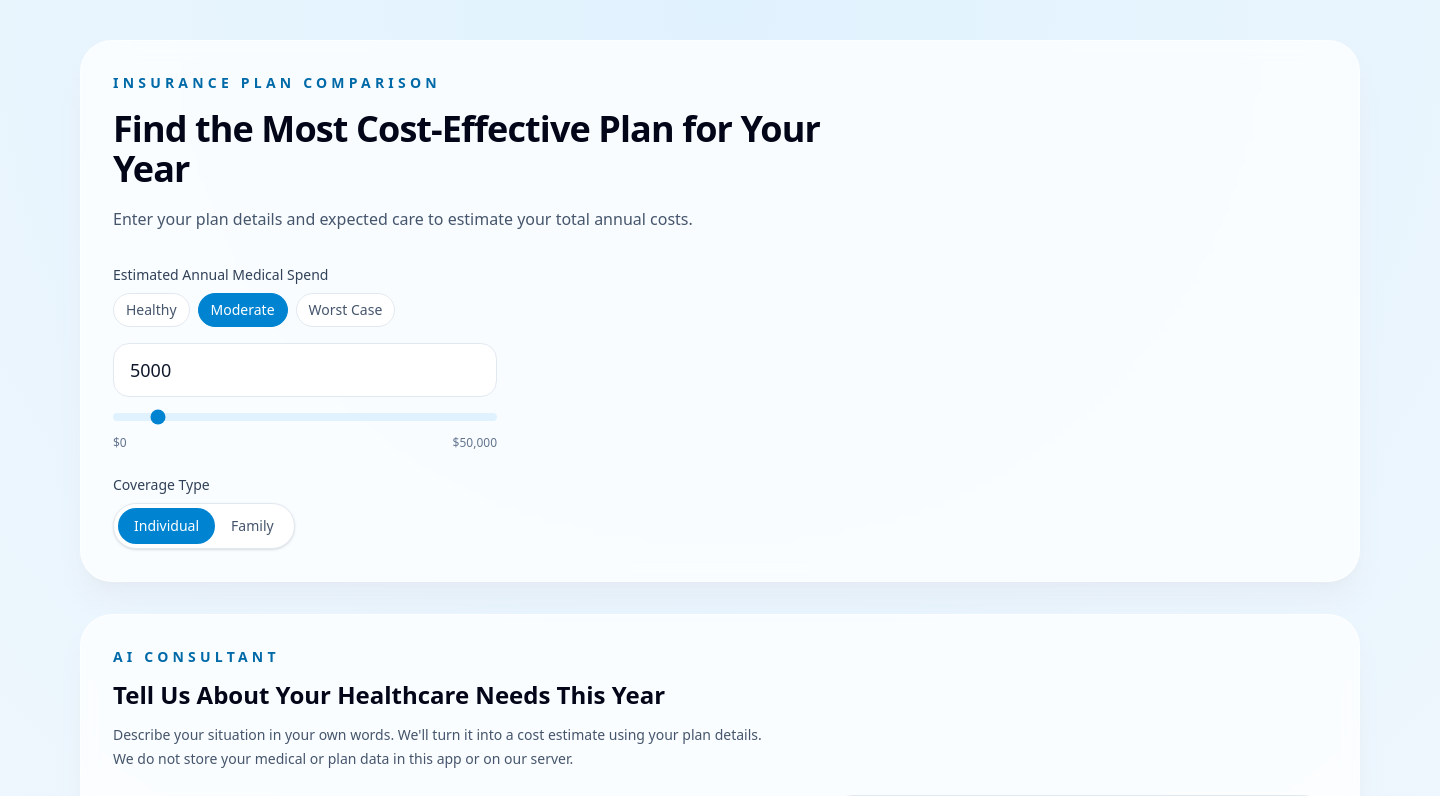
App integration › clicking Worst Case sets annual medical spend to 50000
Click the button with aria-label "Worst Case:".
click(345, 310)  # box [296,293,395,327]
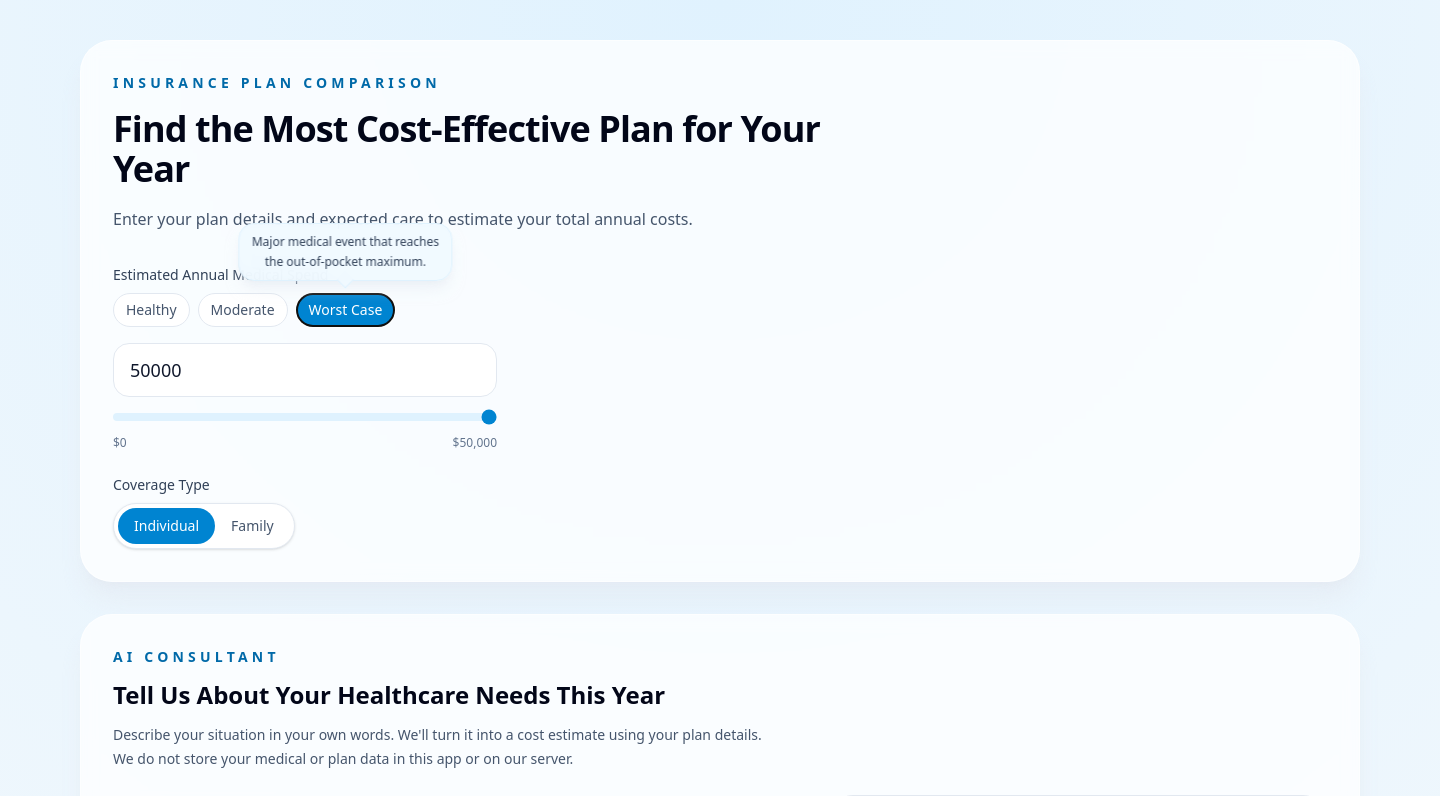
Expected: the number field labelled "Estimated Annual Medical Spend" holds "50000", [113,343,497,397]
